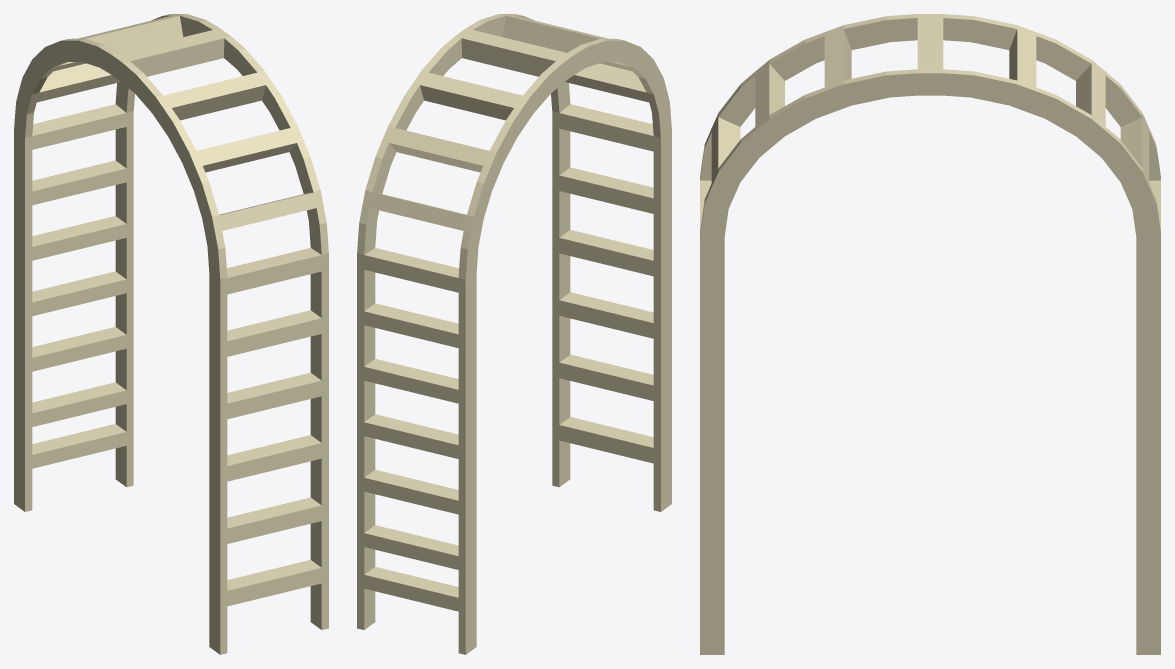
Rendered from arch.fbx.
3 views of the same model, side by side, from view 1: azimuth 30°, elevation 25°; view 2: azimuth 150°, elevation 25°; view 3: azimuth 270°, elevation 25° (orthographic). The views are drawn at different scales.
Visible parts, largest first — view 1: Circle; view 2: Circle; view 3: Circle.
Part boxes in pixels (<box>): Circle: <box>14,14,328,654</box>; Circle: <box>357,14,671,654</box>; Circle: <box>700,14,1160,654</box>.
Size of the model in its own units: 68.11 by 312 by 224.
